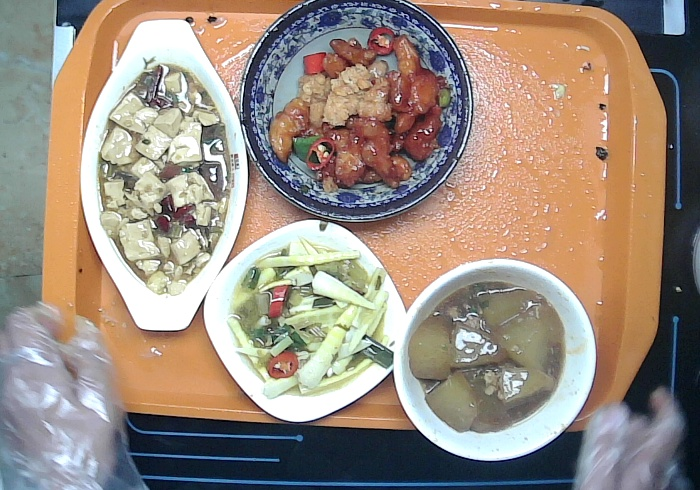ZNLD-Qing_Hua_Wan: (239, 3, 475, 228)
ZNLD-Si_Fang_Wan: (198, 219, 404, 423)
ZNLD-Tang_Wan: (391, 259, 597, 465)
ZNLD-Yu_Pan: (79, 17, 247, 335)
